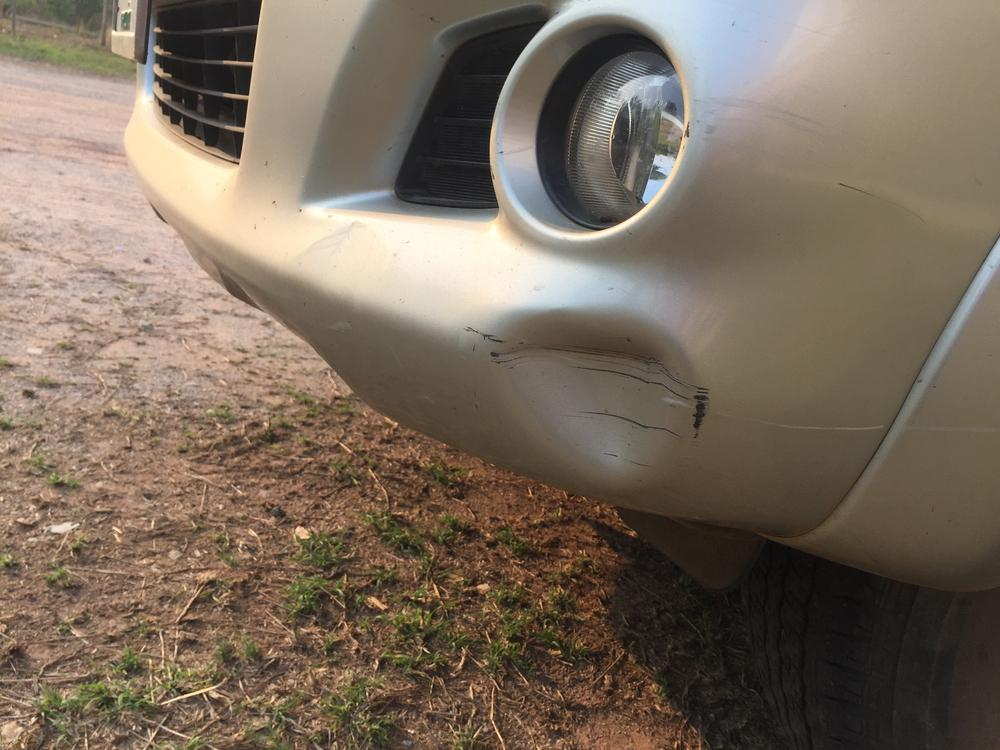dent: (489, 307, 701, 472)
